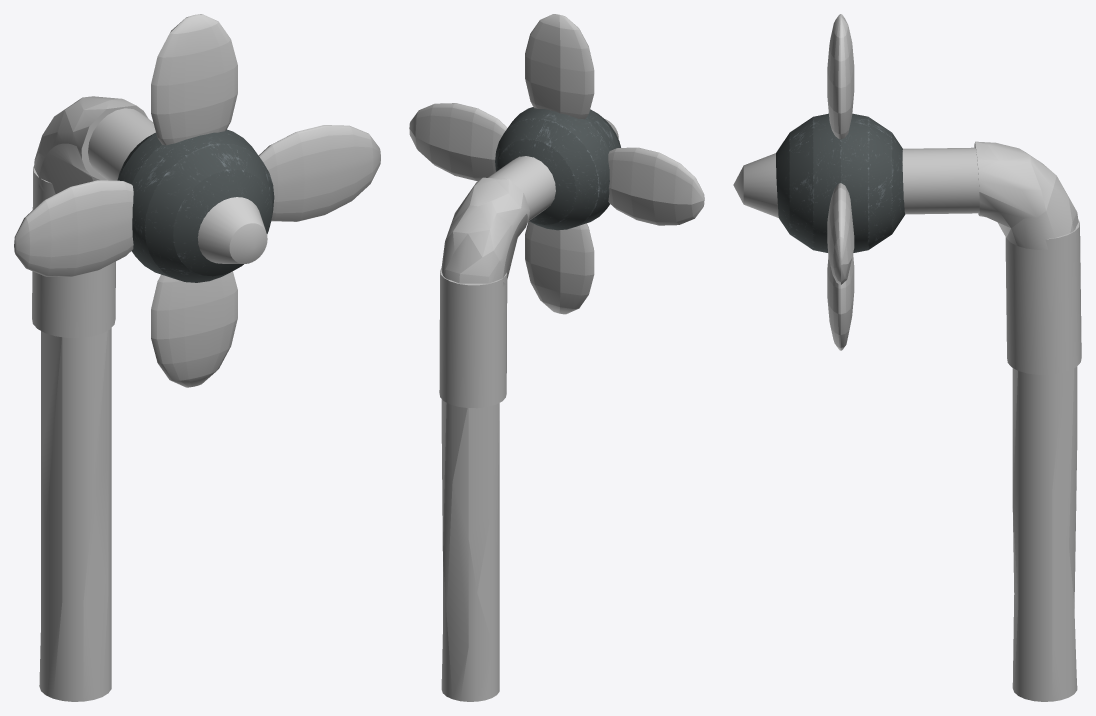
The model's file is Ventilador TXT.fbx.
The picture shows the model from 3 angles, left to right: view 1: azimuth 30°, elevation 25°; view 2: azimuth 150°, elevation 25°; view 3: azimuth 270°, elevation 25°; orthographic projection. The views are drawn at different scales.
Parts seen in each view (by area): view 1: Sphere007; view 2: Sphere007; view 3: Sphere007.
Boxes of the visible parts, bbox=[...] form: Sphere007: bbox=[14, 14, 380, 701]; Sphere007: bbox=[409, 14, 704, 701]; Sphere007: bbox=[733, 14, 1081, 701].
Bounding box in the file's own units: 69.25 × 136 × 63.81.
